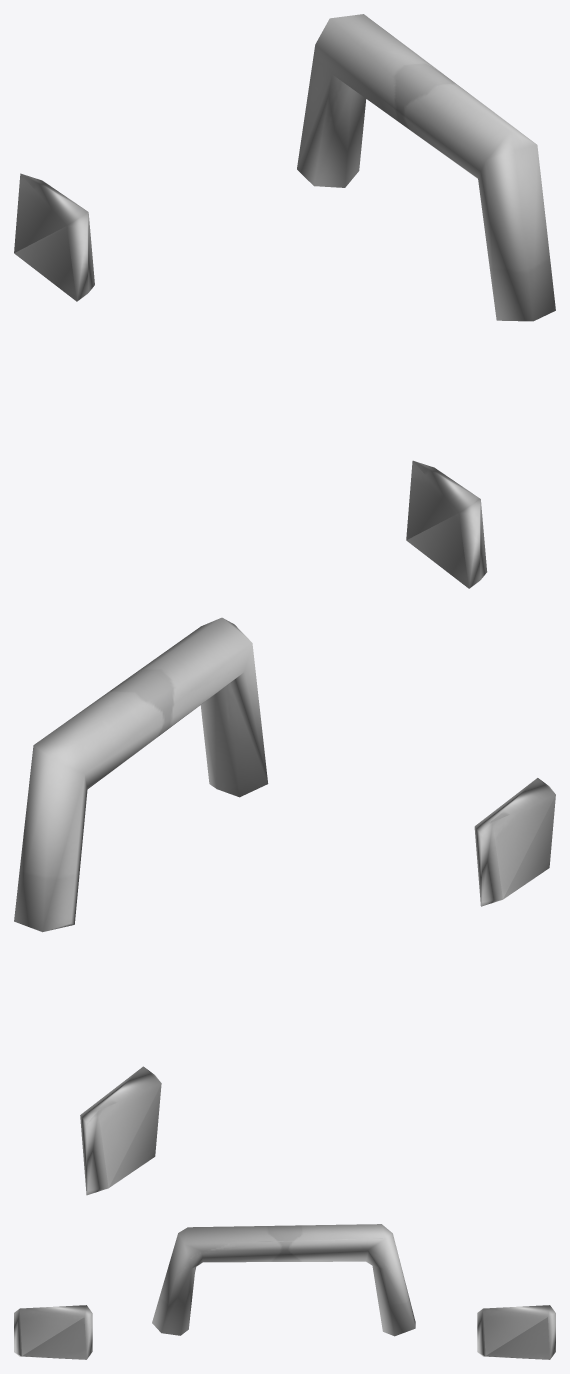
File: RightHand_C2.fbx
The picture shows the model from 3 angles, top to bottom: view 1: azimuth 30°, elevation 25°; view 2: azimuth 150°, elevation 25°; view 3: azimuth 270°, elevation 25°; orthographic projection. The views are drawn at different scales.
Parts seen in each view (by area): view 1: Civ_Maletin_RightHand_C2; view 2: Civ_Maletin_RightHand_C2; view 3: Civ_Maletin_RightHand_C2.
Boxes of the visible parts, box(x1,y1,x2,y2) form: Civ_Maletin_RightHand_C2: box(14, 14, 555, 588); Civ_Maletin_RightHand_C2: box(14, 617, 555, 1195); Civ_Maletin_RightHand_C2: box(14, 1224, 555, 1359).
Size of the model in its own units: 0.2743 by 0.3719 by 1.
